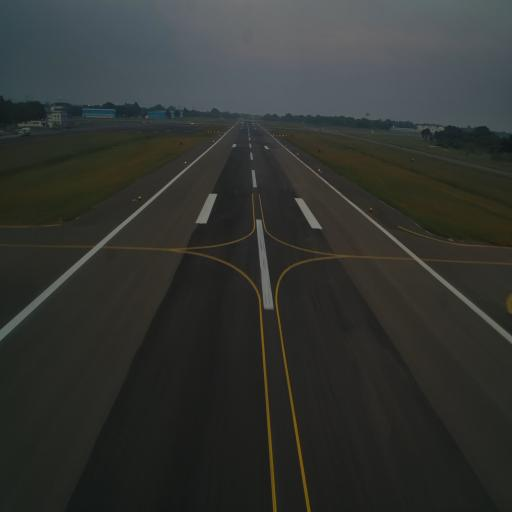on: (369, 206, 373, 213), (138, 194, 142, 200), (184, 160, 187, 166), (296, 151, 299, 156), (318, 168, 320, 173)
